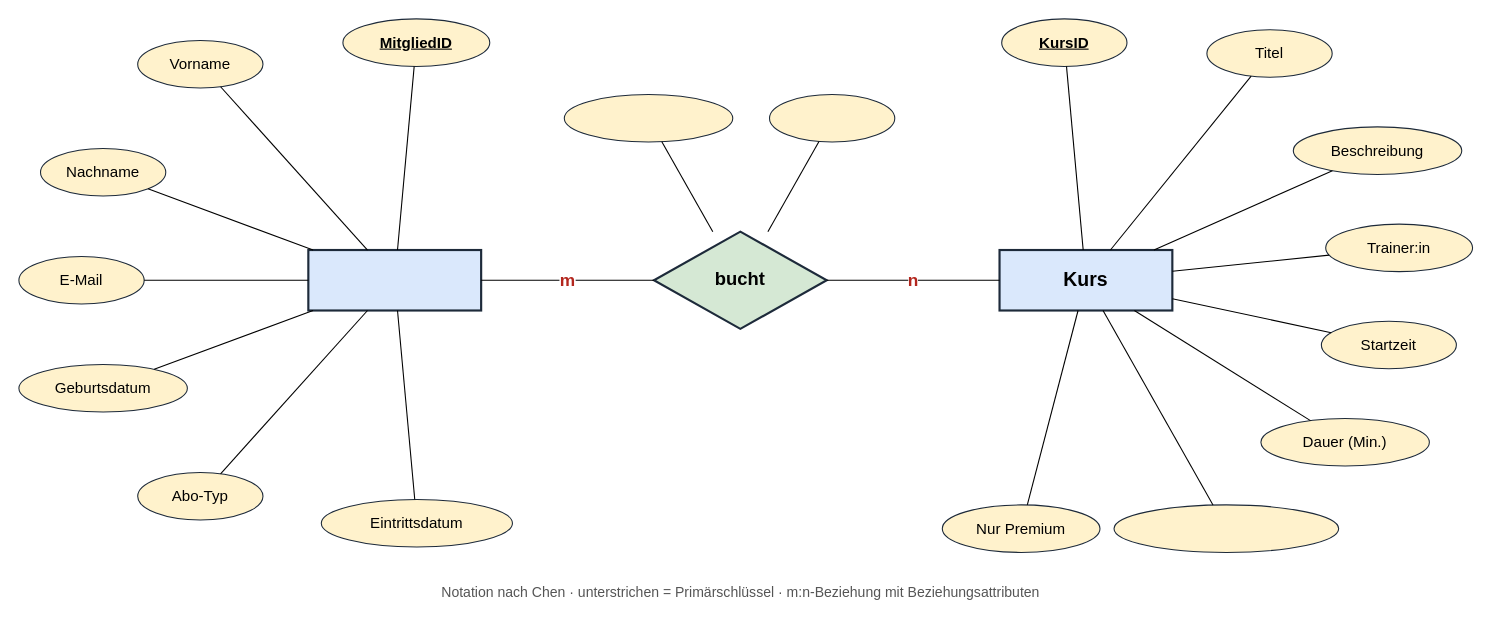
Some shapes in this 1491 by 629 pixel diagram are drawn without their labels. The shapes that lost their labels are listed below. From the top down, each one's box as (x1, y1, x2, y2) in pixels, then its label:
(563, 93, 733, 142): Buchungszeit
(768, 93, 895, 142): Status
(307, 248, 482, 311): Mitglied
(1113, 504, 1339, 552): Max. Teilnehmende
